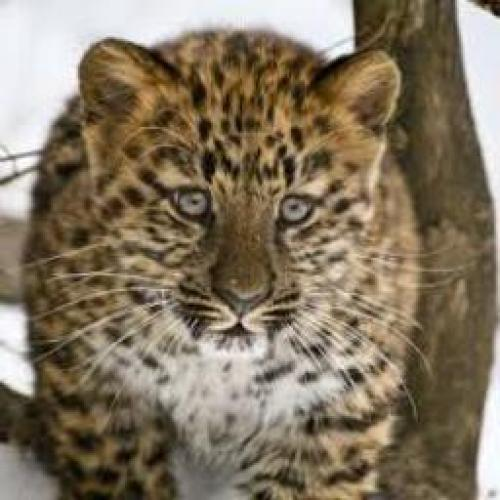amur_leopard-endangered: (27, 29, 424, 500)
